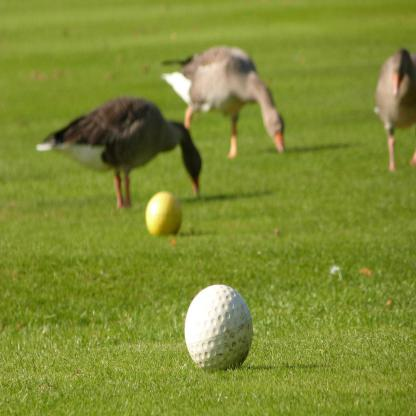Ball: (183, 285, 253, 377), (144, 189, 184, 236)
